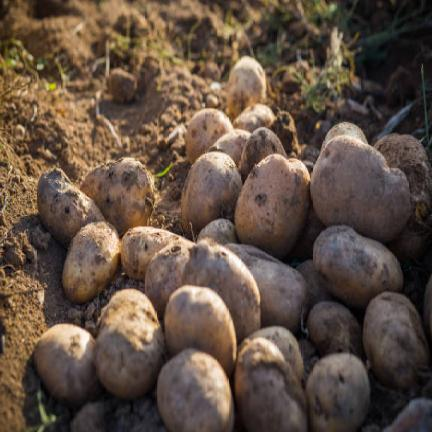potato: (311, 138, 409, 241), (182, 240, 260, 341), (234, 155, 309, 256), (95, 289, 164, 398), (313, 226, 402, 307), (374, 133, 431, 259), (227, 244, 307, 332), (234, 338, 307, 430), (164, 286, 236, 376), (157, 348, 233, 431), (364, 292, 428, 389), (82, 158, 154, 236), (34, 324, 100, 404), (37, 168, 104, 246), (182, 151, 241, 235), (306, 354, 370, 431), (62, 221, 119, 303), (144, 238, 193, 318), (239, 327, 303, 381), (306, 301, 364, 358), (120, 227, 183, 278), (238, 127, 286, 181), (186, 108, 233, 163), (227, 57, 266, 116), (288, 205, 325, 260), (296, 259, 332, 309), (208, 129, 249, 165), (321, 122, 367, 150), (233, 104, 275, 132), (197, 218, 237, 244), (107, 68, 136, 102), (424, 275, 431, 336), (298, 144, 319, 164)
